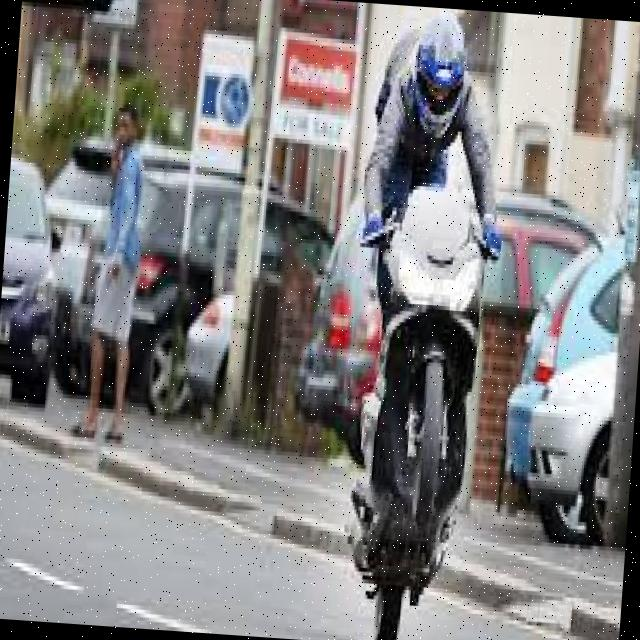Wheeling: (323, 23, 508, 640)
